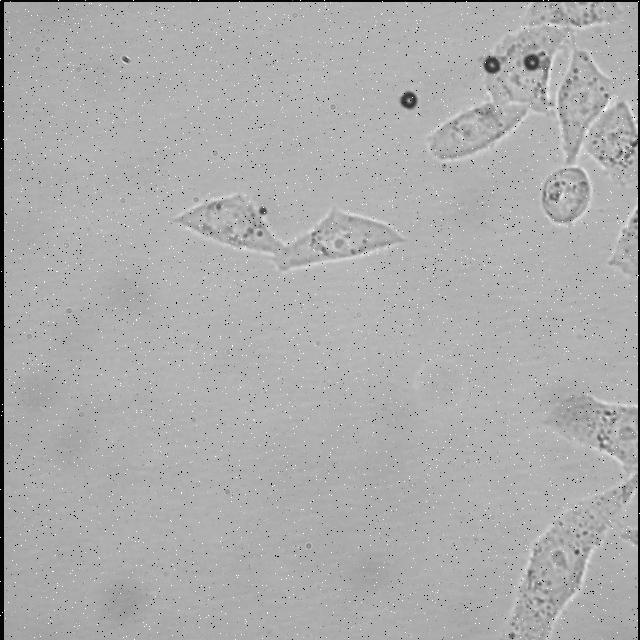microbeads: (483, 54, 502, 74), (400, 92, 420, 110), (521, 54, 541, 72)
